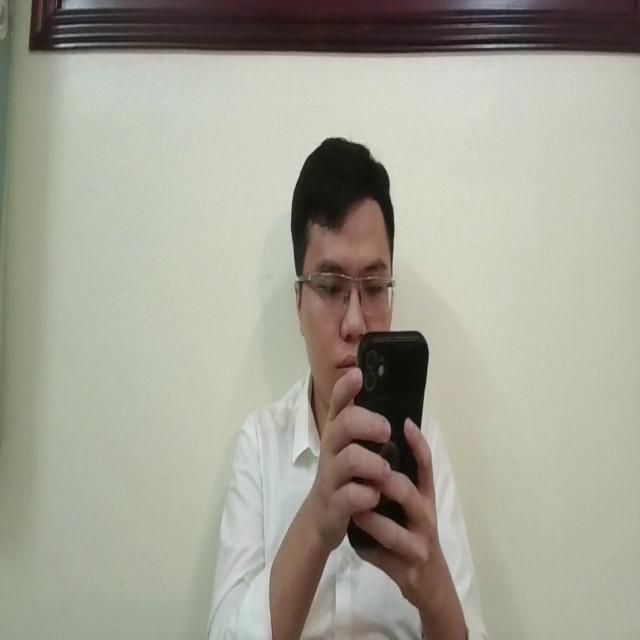phone: (343, 327, 429, 552)
student: (208, 130, 486, 640)
